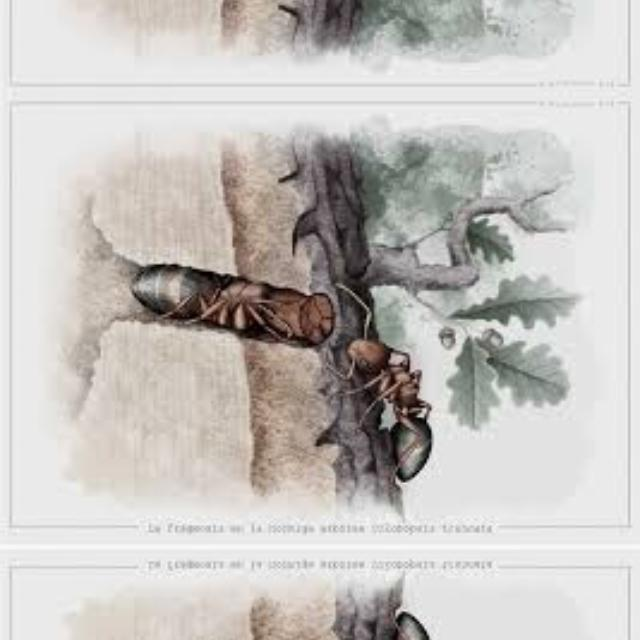Colobopsis: (120, 248, 356, 356), (339, 306, 445, 482)
